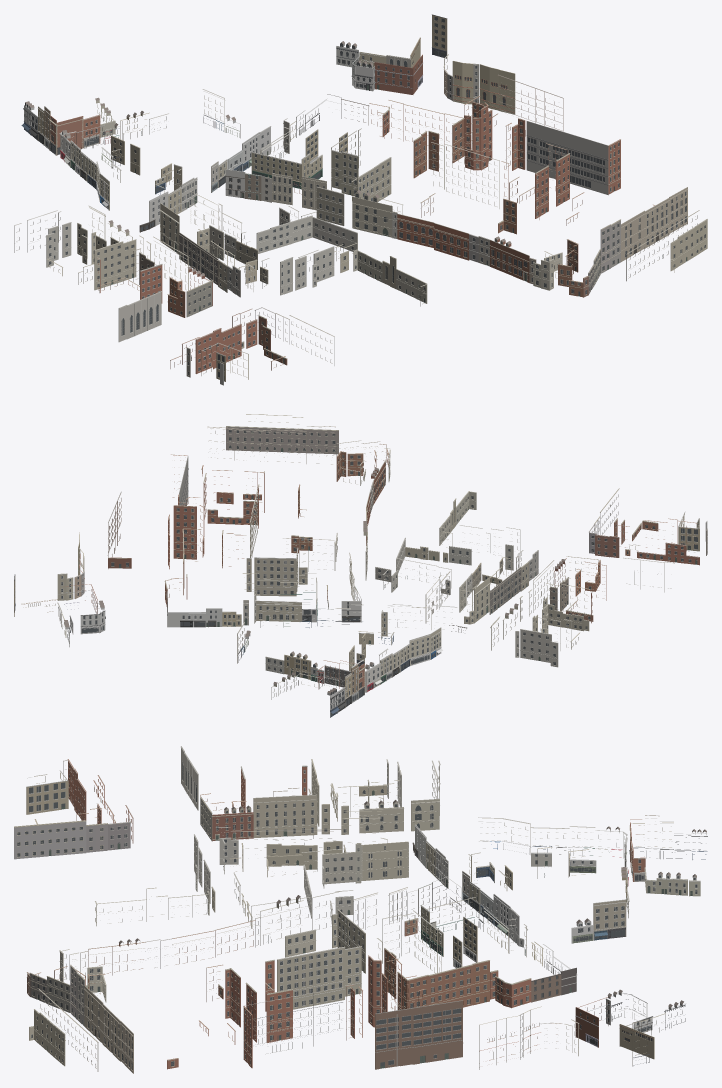
3 views of the same model, one above another, from view 1: azimuth 30°, elevation 25°; view 2: azimuth 150°, elevation 25°; view 3: azimuth 270°, elevation 25° (orthographic). The views are drawn at different scales.
Visible parts, largest first — view 1: f:relation/18902596, f:way/5236376, f:way/148880402, f:way/131111124, f:way/131662305, f:way/500707195, f:way/164830069, f:way/665152264, f:way/157588858, f:way/131662301, f:way/131662314, f:way/119569820 (+27 smaller); view 2: f:way/136601299, f:relation/18902596, f:way/1204681318, f:way/164708968, f:way/1095395396, f:way/148880393, f:way/95412331, f:way/164830069, f:way/157588858, f:way/148880402, f:way/148880401, f:way/131662301 (+15 smaller); view 3: f:relation/18902596, f:way/780634444, f:way/665152264, f:way/157588882, f:way/95412331, f:way/157588871, f:way/164848658, f:way/148880401, f:way/148880393, f:way/157588868, f:way/131662301, f:way/136601299 (+29 smaller).
Part boxes in pixels (x1,y1,x2,y2): f:relation/18902596: [464, 74, 620, 195]; f:way/5236376: [443, 54, 515, 114]; f:way/148880402: [224, 206, 357, 258]; f:way/131111124: [489, 236, 562, 290]; f:way/131662305: [316, 157, 391, 225]; f:way/500707195: [397, 214, 469, 260]; f:way/164830069: [78, 235, 150, 290]; f:way/665152264: [388, 100, 464, 178]; f:way/157588858: [170, 324, 241, 377]; f:way/131662301: [558, 224, 610, 297]; f:way/131662314: [572, 187, 687, 248]; f:way/119569820: [352, 190, 402, 238]; f:way/136601299: [226, 414, 338, 454]; f:relation/18902596: [107, 454, 204, 569]; f:way/1204681318: [246, 547, 298, 596]; f:way/164708968: [515, 617, 571, 667]; f:way/1095395396: [242, 573, 301, 625]; f:way/148880393: [472, 561, 528, 614]; f:way/95412331: [203, 470, 264, 528]; f:way/164830069: [519, 583, 590, 631]; f:way/157588858: [637, 518, 707, 565]; f:way/148880402: [375, 537, 472, 597]; f:way/148880401: [425, 577, 490, 624]; f:way/131662301: [322, 426, 388, 481]; f:relation/18902596: [243, 953, 463, 1069]; f:way/780634444: [277, 946, 361, 1009]; f:way/665152264: [384, 948, 489, 1009]; f:way/157588882: [14, 808, 107, 859]; f:way/95412331: [225, 959, 292, 1042]; f:way/157588871: [253, 788, 317, 837]; f:way/164848658: [350, 779, 439, 833]; f:way/148880401: [342, 811, 408, 880]; f:way/148880393: [242, 829, 342, 869]; f:way/157588868: [200, 793, 253, 841]; f:way/131662301: [27, 964, 105, 1019]; f:way/136601299: [29, 989, 98, 1071].
Bounding box in the file's own units: 257 × 30.62 × 258.
